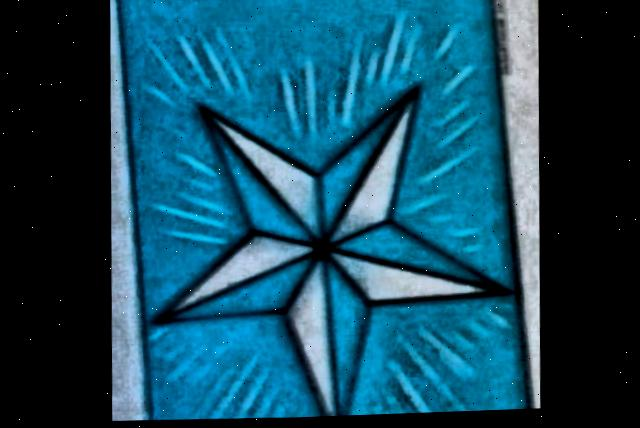La Estrella: (117, 0, 525, 421)
